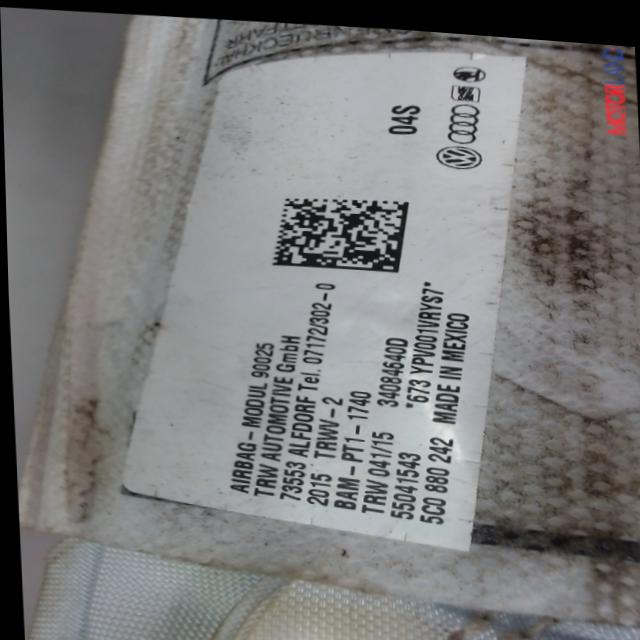datamatrix: (268, 187, 411, 269)
